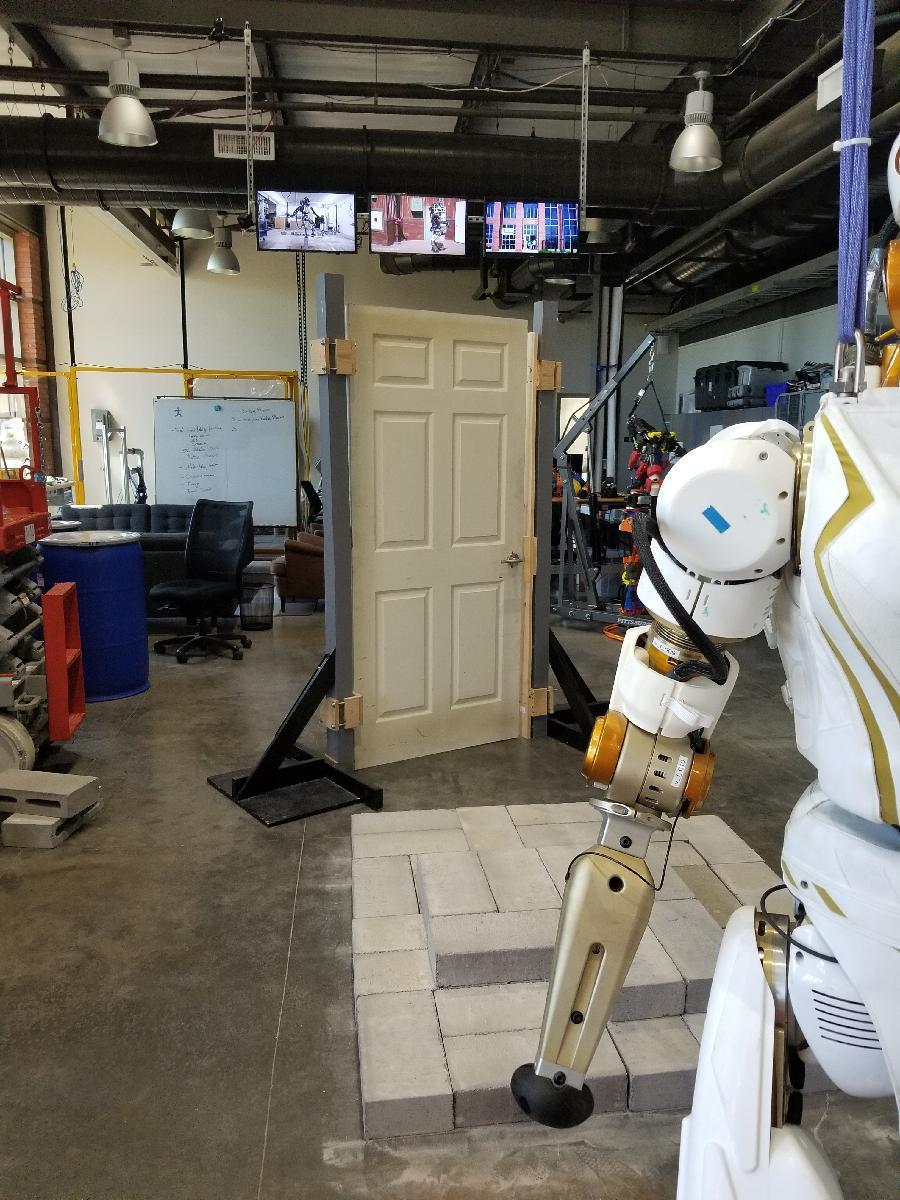door: (346, 308, 528, 757)
handle: (499, 549, 526, 570)
